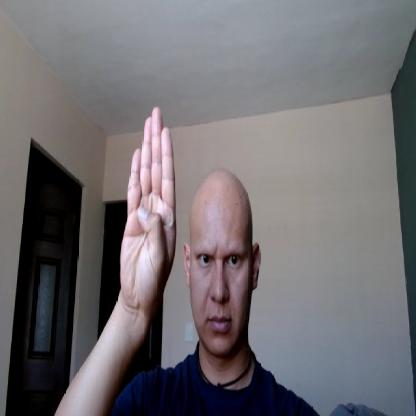B: (120, 105, 178, 307)
